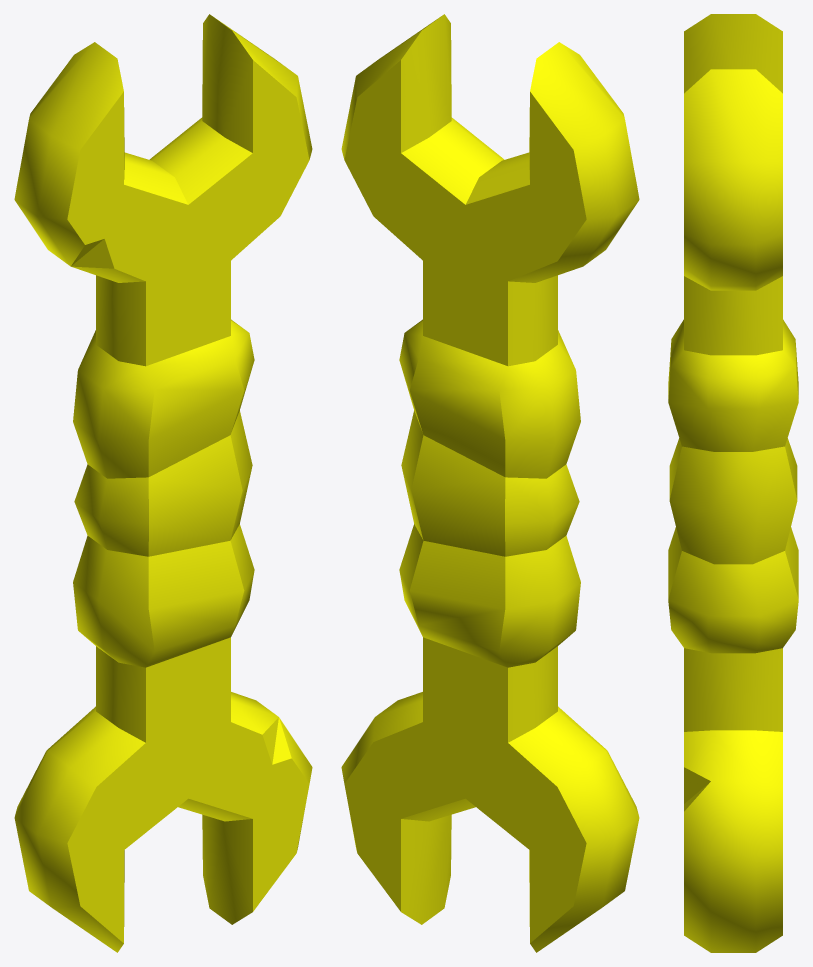
The model's file is kaykit-wrench-a.glb.
3 renders of one model, left to right at view 1: azimuth 30°, elevation 25°; view 2: azimuth 150°, elevation 25°; view 3: azimuth 270°, elevation 25°, orthographic.
Visible parts, largest first — view 1: wrench_A; view 2: wrench_A; view 3: wrench_A.
Part boxes in pixels (x1,y1,x2,y2): wrench_A: [14, 14, 312, 952]; wrench_A: [341, 14, 639, 952]; wrench_A: [668, 14, 798, 952].
Bounding box in the file's own units: 0.2639 × 0.819 × 0.1097.
